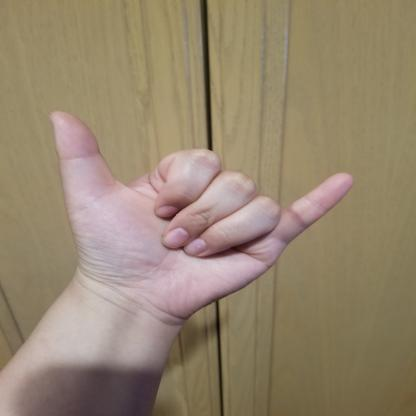Y: (43, 107, 360, 318)
